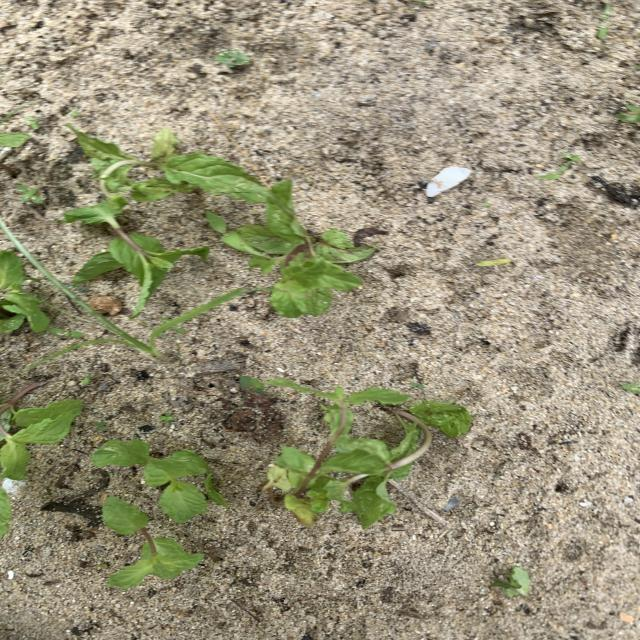crop: (263, 378, 407, 527), (237, 181, 374, 317), (326, 401, 472, 528), (64, 197, 209, 317), (67, 123, 259, 202), (92, 439, 227, 521), (101, 496, 203, 587), (0, 385, 81, 479), (1, 250, 49, 332), (1, 132, 28, 148)
weed: (0, 224, 239, 361), (205, 211, 253, 254), (538, 154, 580, 180), (238, 375, 265, 394), (17, 185, 43, 203), (476, 258, 512, 267), (621, 381, 639, 394), (159, 413, 173, 422), (94, 421, 107, 430)
